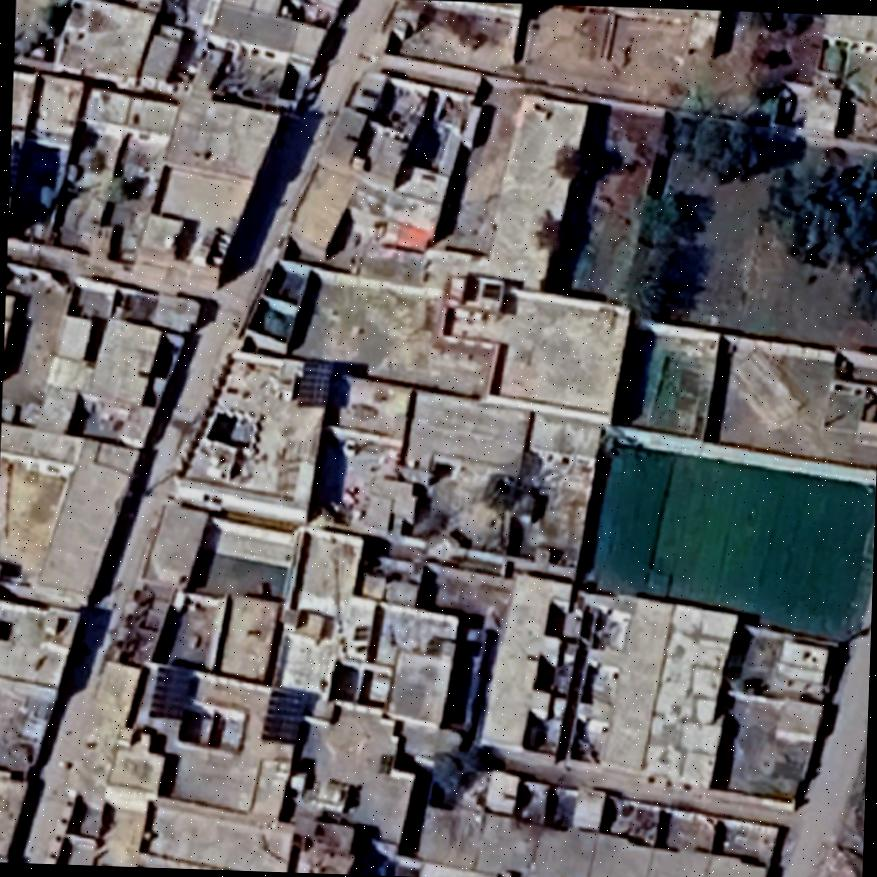Solarpanel: (258, 681, 313, 749), (146, 660, 198, 724), (291, 352, 339, 411)
